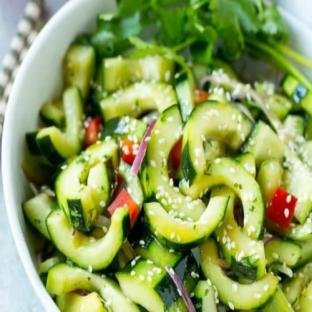Cucumber: (141, 105, 205, 221), (181, 158, 264, 239), (181, 102, 252, 185), (55, 140, 117, 230), (200, 238, 278, 309), (46, 208, 129, 270), (211, 187, 265, 279), (145, 197, 229, 250), (47, 264, 139, 311), (117, 259, 187, 311), (37, 87, 82, 163), (100, 82, 177, 120), (102, 55, 174, 91), (282, 152, 311, 224), (242, 121, 285, 167), (135, 232, 182, 267), (64, 45, 95, 98), (23, 194, 55, 239), (283, 262, 311, 309), (118, 159, 144, 207), (257, 159, 283, 203), (281, 75, 311, 113), (102, 116, 147, 141), (175, 70, 195, 123), (267, 217, 311, 241), (265, 239, 301, 266), (56, 293, 108, 311), (38, 252, 66, 281), (259, 288, 293, 311), (193, 281, 217, 311), (40, 100, 64, 128), (235, 153, 255, 178), (284, 115, 305, 138), (296, 238, 311, 267), (26, 130, 41, 156), (298, 283, 311, 311)
